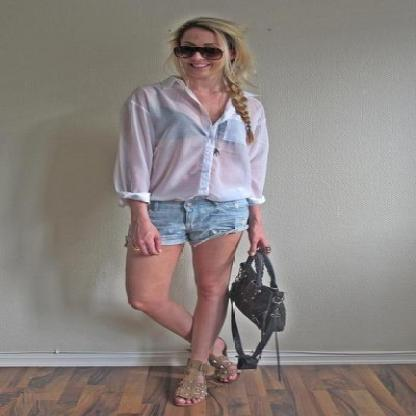bag: (224, 261, 285, 324)
shirt: (112, 73, 268, 205)
shoe: (176, 352, 239, 403)
shorts: (142, 193, 248, 244)
sunglass: (172, 36, 222, 60)
